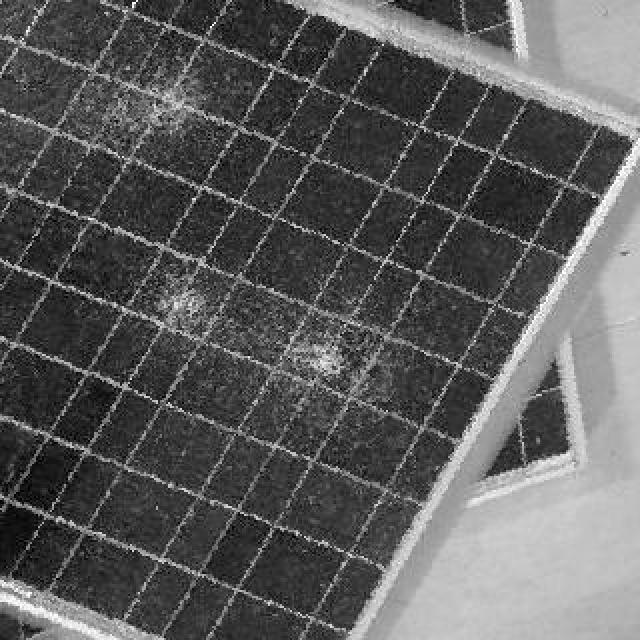Physical-damage: (144, 252, 432, 448), (86, 70, 256, 216)
